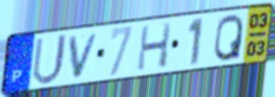1: (187, 16, 205, 68)
7: (109, 25, 137, 78)
H: (135, 21, 173, 73)
Q: (212, 12, 245, 63)
U: (30, 32, 69, 87)
V: (68, 31, 102, 80)
